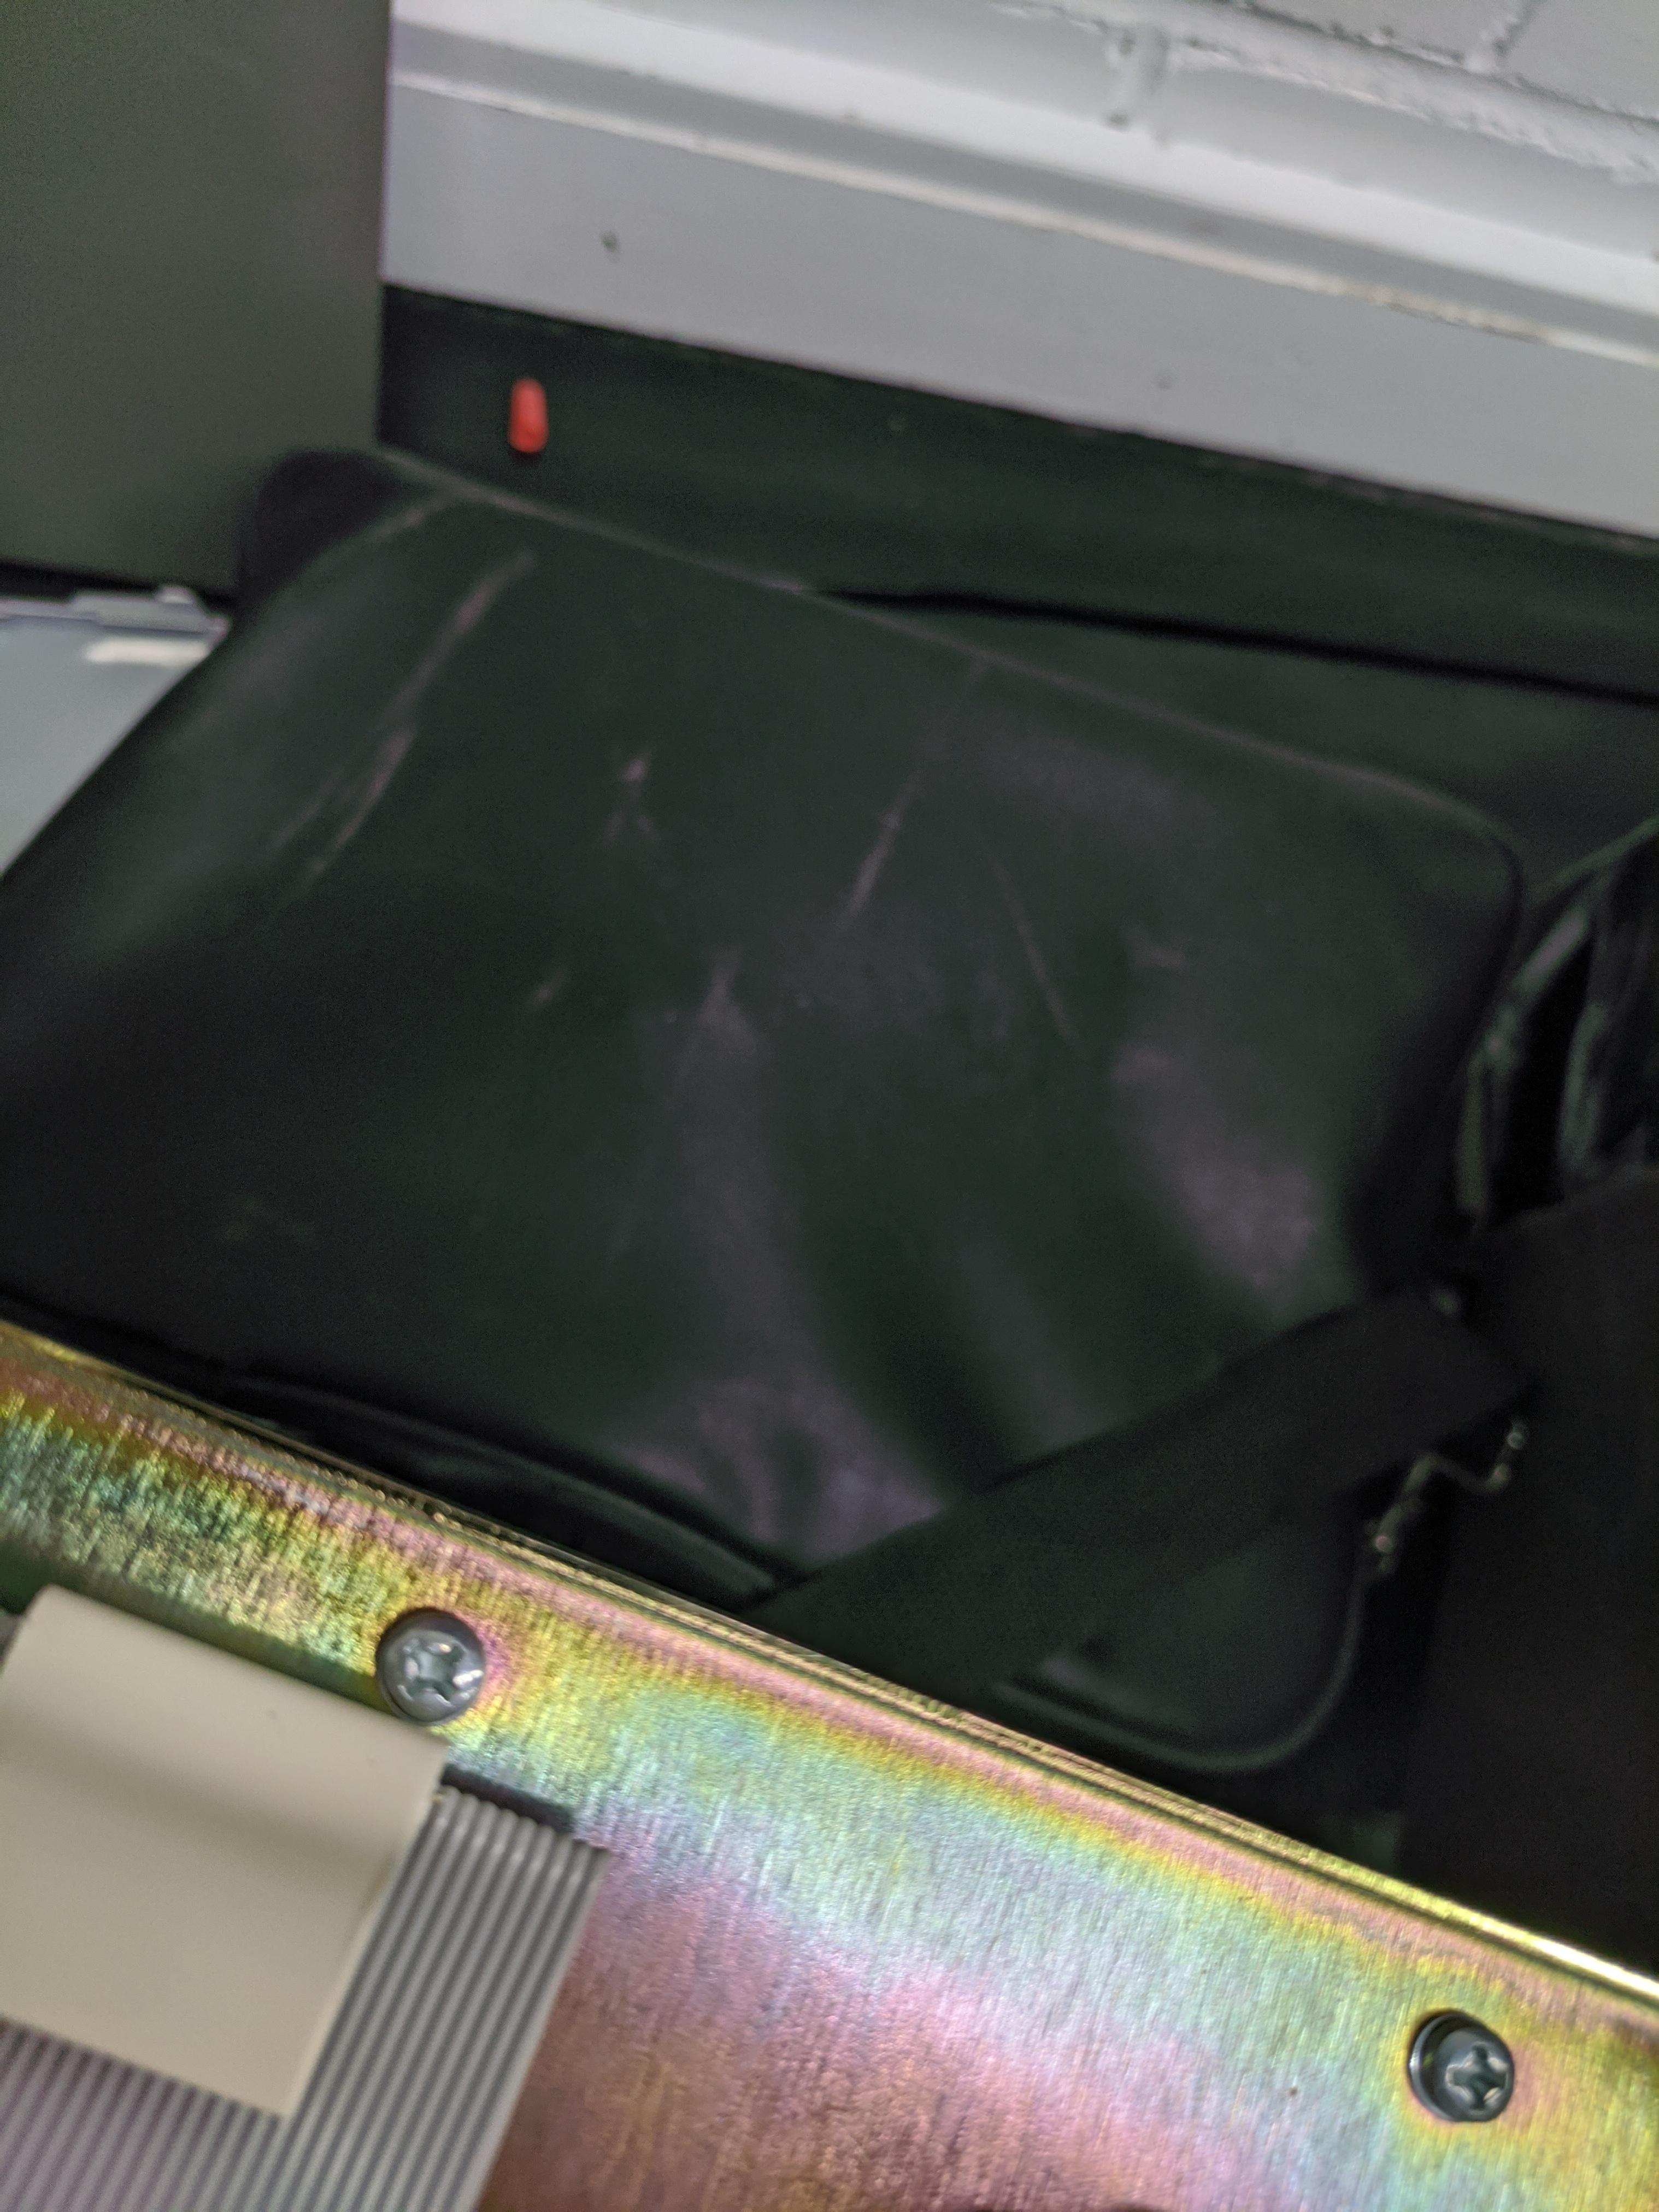cross_recessed_screw: (1406, 2000, 1534, 2137), (366, 1602, 488, 1721)
